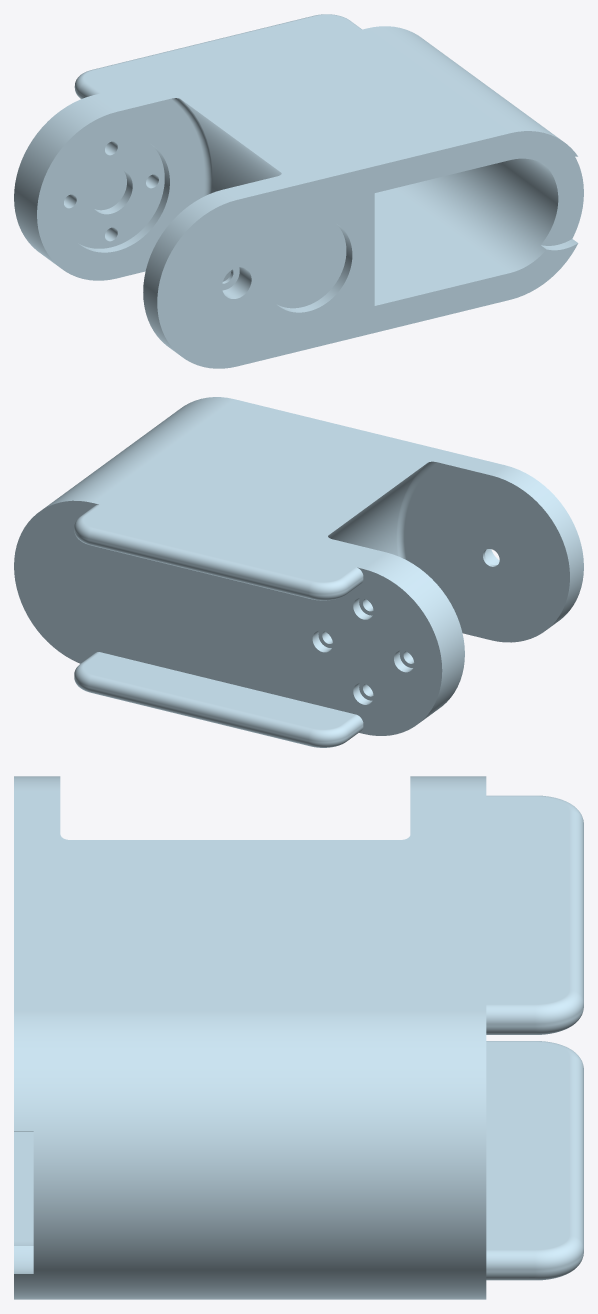
The picture shows the model from 3 angles, top to bottom: view 1: azimuth 30°, elevation 25°; view 2: azimuth 150°, elevation 25°; view 3: azimuth 270°, elevation 25°; orthographic projection. The views are drawn at different scales.
Parts seen in each view (by area): view 1: SnakeFront; view 2: SnakeFront; view 3: SnakeFront.
Part boxes in pixels (x1,y1,x2,y2): SnakeFront: [14, 14, 583, 368]; SnakeFront: [14, 397, 583, 747]; SnakeFront: [14, 776, 583, 1299].
Bounding box in the file's own units: 0.0843 × 0.031 × 0.0583.
